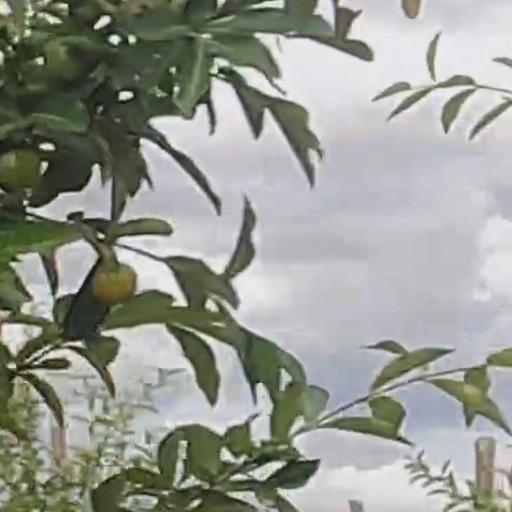acerola_verde: (2, 150, 40, 188)
acerola_vermelha: (95, 264, 135, 301)
